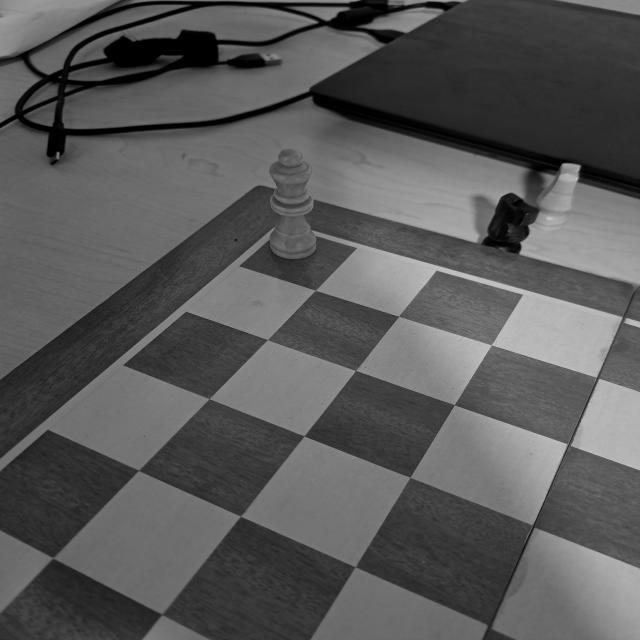chess-table-corners: (249, 205, 333, 262)
